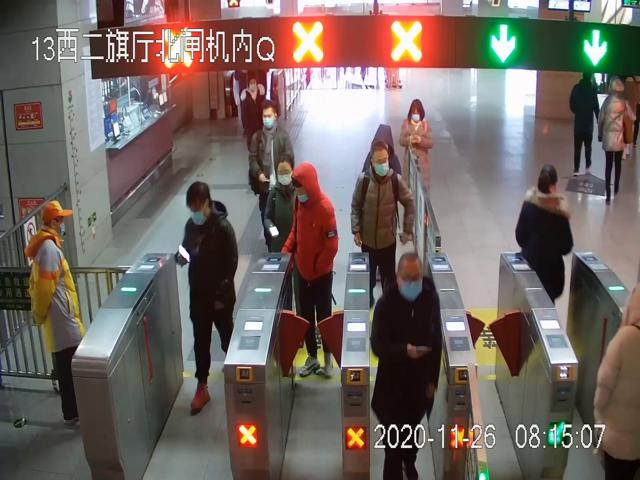person: (373, 254, 444, 480), (23, 199, 89, 427), (177, 181, 238, 413), (284, 162, 339, 380), (351, 140, 413, 305), (516, 165, 575, 309), (248, 99, 296, 230), (402, 98, 434, 241), (264, 155, 300, 256)
